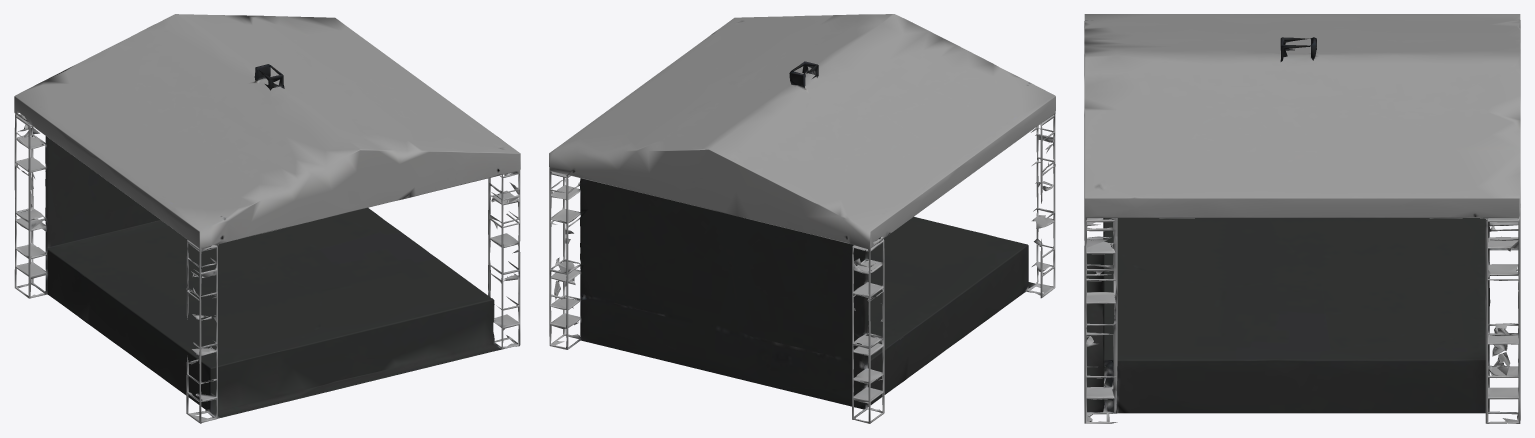
File: panggung.glb
3 views of the same model, side by side, from view 1: azimuth 30°, elevation 25°; view 2: azimuth 150°, elevation 25°; view 3: azimuth 270°, elevation 25° (orthographic). The views are drawn at different scales.
Visible parts, largest first — view 1: tripo_node_e96d3b6c; view 2: tripo_node_e96d3b6c; view 3: tripo_node_e96d3b6c.
Boxes of the visible parts, x1,y1,x2,y2 form: tripo_node_e96d3b6c: (14,14,520,423); tripo_node_e96d3b6c: (549,14,1055,423); tripo_node_e96d3b6c: (1084,14,1520,423).
Bounding box in the file's own units: 99.84 × 73.51 × 99.8.
Materials: 1 (1 with a texture image).
